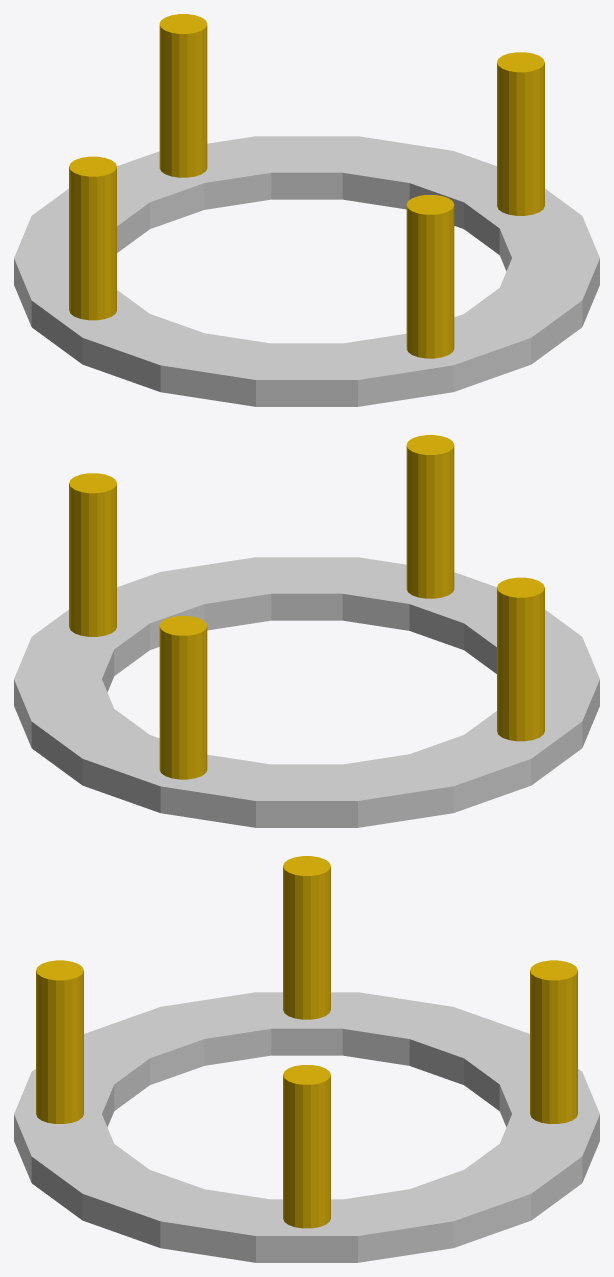
File: obsRo.fbx
3 views of the same model, one above another, from view 1: azimuth 30°, elevation 25°; view 2: azimuth 150°, elevation 25°; view 3: azimuth 270°, elevation 25° (orthographic).
Parts seen in each view (by area): view 1: Cylinder.001, Cylinder.002, Cylinder.003, Cylinder, Cylinder.004; view 2: Cylinder.001, Cylinder.002, Cylinder.003, Cylinder, Cylinder.004; view 3: Cylinder.001, Cylinder, Cylinder.003, Cylinder.002, Cylinder.004.
Boxes of the visible parts, x1,y1,x2,y2 form: Cylinder.001: [14, 136, 599, 406]; Cylinder.002: [159, 14, 207, 177]; Cylinder.003: [406, 195, 454, 358]; Cylinder: [69, 156, 116, 320]; Cylinder.004: [497, 52, 544, 215]; Cylinder.001: [14, 557, 599, 827]; Cylinder.002: [159, 616, 207, 779]; Cylinder.003: [406, 435, 454, 598]; Cylinder: [497, 577, 544, 741]; Cylinder.004: [69, 473, 116, 636]; Cylinder.001: [14, 992, 599, 1262]; Cylinder: [283, 856, 330, 1019]; Cylinder.003: [36, 960, 83, 1123]; Cylinder.002: [530, 960, 577, 1123]; Cylinder.004: [283, 1065, 330, 1228].
Size of the model in its own units: 818 by 267 by 830.
